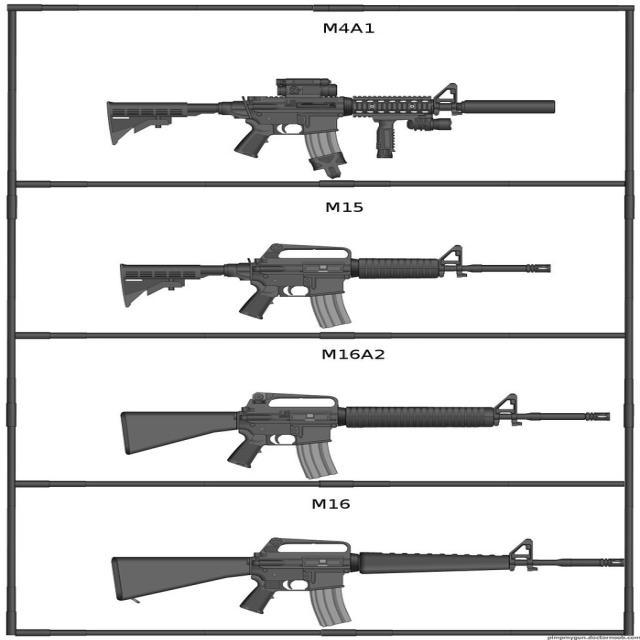Rifle: (93, 70, 559, 180), (110, 530, 627, 628), (108, 387, 616, 477), (104, 234, 556, 328)
